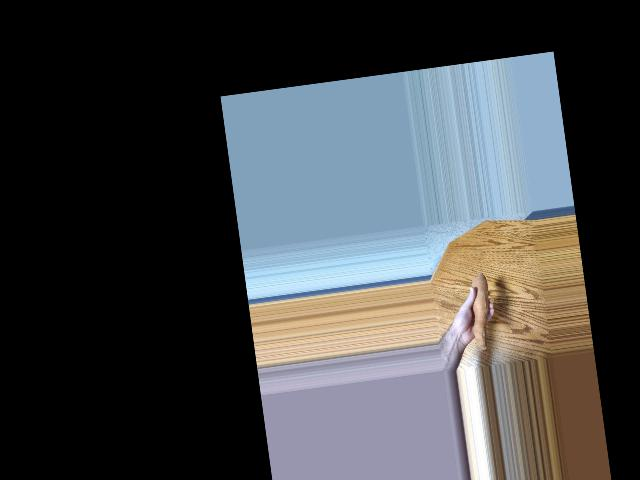sweet_potato: (464, 270, 499, 354)
